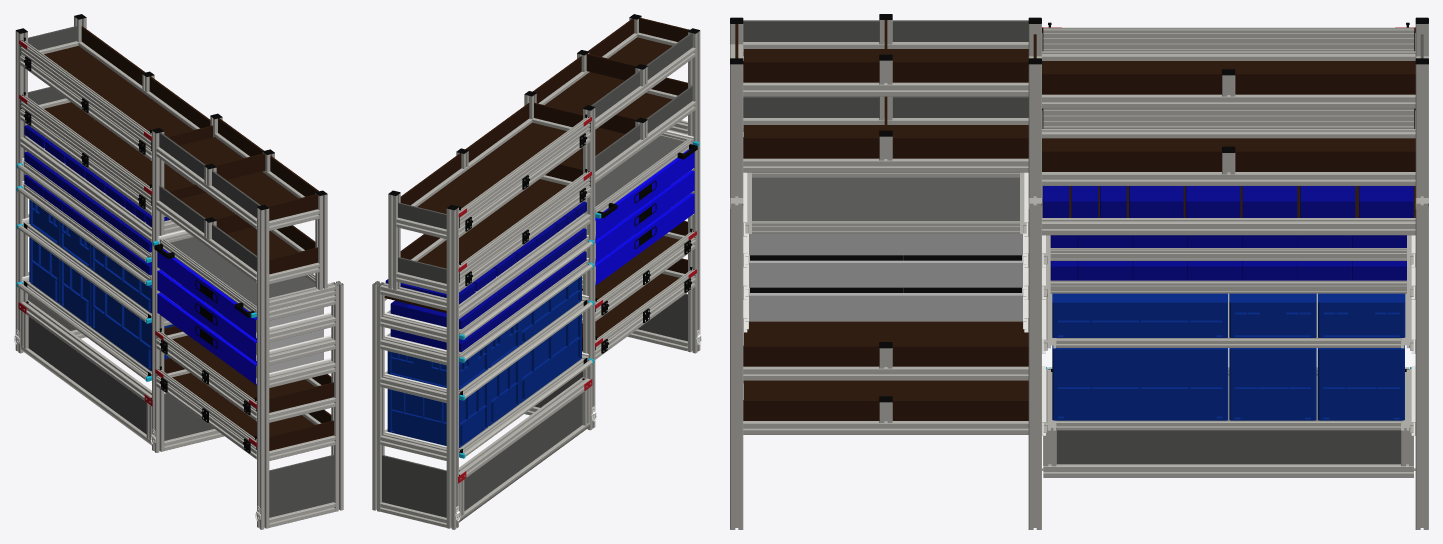
3 renders of one model, left to right at view 1: azimuth 30°, elevation 25°; view 2: azimuth 150°, elevation 25°; view 3: azimuth 270°, elevation 25°, orthographic. The views are drawn at different scales.
Parts seen in each view (by area): view 1: n0, n62, n64, n56, n68, n70, n66, n2, n8, n46, n54, n14 (+8 smaller); view 2: n0, n62, n58, n64, n56, n8, n2, n68, n70, n48, n66, n54 (+11 smaller); view 3: n0, n62, n64, n56, n70, n2, n68, n52, n8, n58, n60, n66 (+20 smaller).
Boxes of the visible parts, x1=… form: n0: x1=14, y1=14, x2=343, y2=529; n62: x1=18, y1=300, x2=152, y2=445; n64: x1=152, y1=232, x2=315, y2=318; n56: x1=91, y1=283, x2=174, y2=371; n68: x1=157, y1=270, x2=323, y2=361; n70: x1=157, y1=293, x2=323, y2=384; n66: x1=157, y1=249, x2=323, y2=338; n2: x1=19, y1=40, x2=152, y2=151; n8: x1=19, y1=94, x2=152, y2=205; n46: x1=16, y1=220, x2=151, y2=323; n54: x1=16, y1=278, x2=151, y2=381; n14: x1=16, y1=161, x2=151, y2=263; n0: x1=372, y1=14, x2=701, y2=529; n62: x1=458, y1=377, x2=592, y2=522; n58: x1=387, y1=382, x2=488, y2=447; n64: x1=595, y1=132, x2=699, y2=218; n56: x1=519, y1=314, x2=581, y2=403; n8: x1=458, y1=171, x2=591, y2=282; n2: x1=458, y1=116, x2=591, y2=228; n68: x1=595, y1=170, x2=694, y2=262; n70: x1=595, y1=193, x2=694, y2=285; n48: x1=387, y1=345, x2=488, y2=389; n66: x1=595, y1=149, x2=694, y2=239; n54: x1=384, y1=355, x2=594, y2=458; n0: x1=730, y1=14, x2=1428, y2=529; n62: x1=1043, y1=428, x2=1413, y2=477; n64: x1=745, y1=172, x2=1026, y2=233; n56: x1=1052, y1=345, x2=1228, y2=420; n70: x1=745, y1=287, x2=1026, y2=329; n2: x1=1042, y1=27, x2=1415, y2=51; n68: x1=745, y1=255, x2=1026, y2=296; n52: x1=1052, y1=293, x2=1227, y2=337; n8: x1=1042, y1=108, x2=1415, y2=128; n58: x1=1317, y1=345, x2=1404, y2=420; n60: x1=1229, y1=348, x2=1316, y2=420; n66: x1=745, y1=233, x2=1026, y2=264.
Bounding box in the file's own units: 490 × 1717 × 2369.
